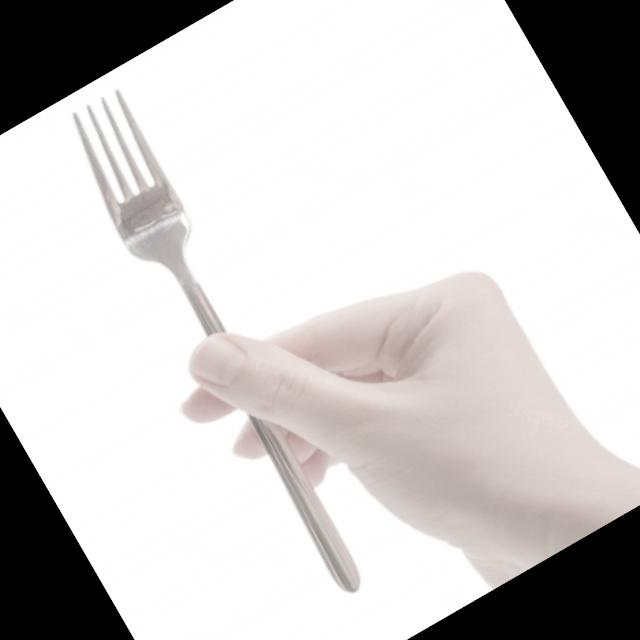fork: (52, 82, 400, 606)
